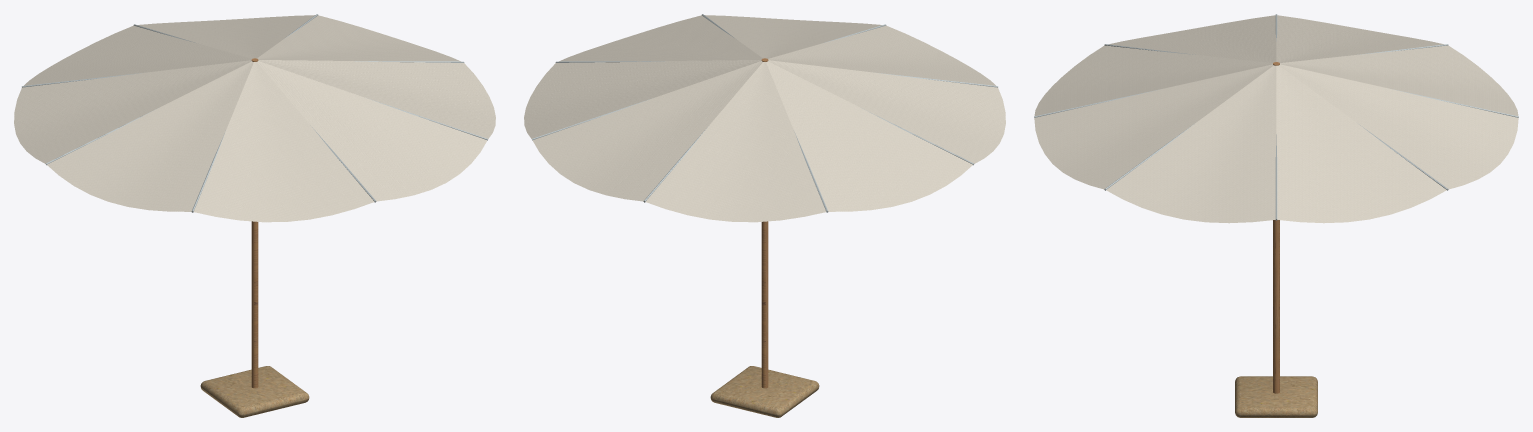
File: sombrilla_grande_base.glb
3 renders of one model, left to right at view 1: azimuth 30°, elevation 25°; view 2: azimuth 150°, elevation 25°; view 3: azimuth 270°, elevation 25°, orthographic.
Visible parts, largest first — view 1: sombrilla_grande_base; view 2: sombrilla_grande_base; view 3: sombrilla_grande_base.
Part boxes in pixels (x1=…): sombrilla_grande_base: x1=14, y1=14, x2=495, y2=417; sombrilla_grande_base: x1=524, y1=14, x2=1005, y2=417; sombrilla_grande_base: x1=1034, y1=14, x2=1518, y2=417.
Bounding box in the file's own units: 3.5 × 2.7 × 3.5.
4 materials, 3 textured.
